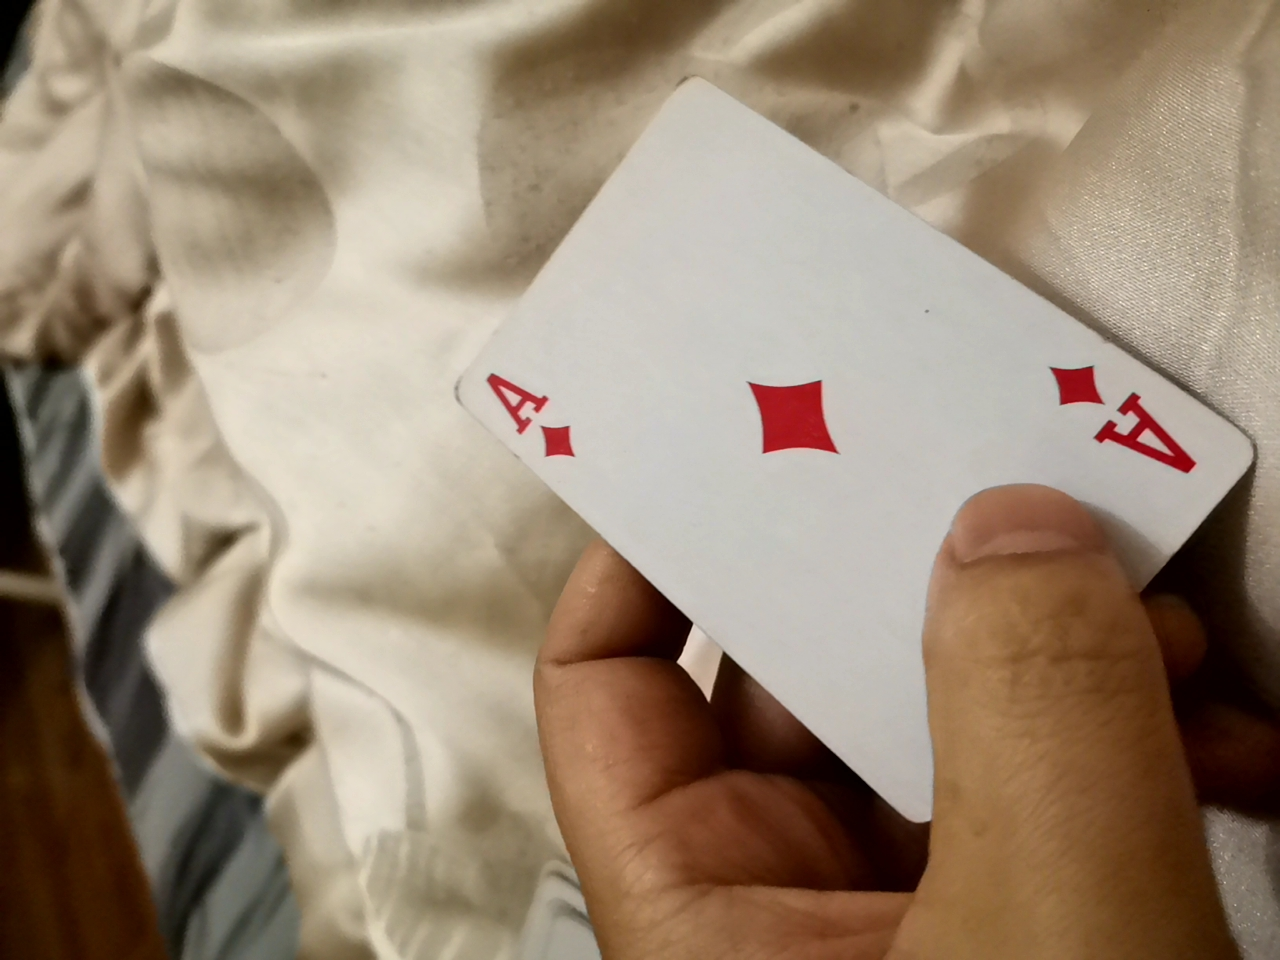fk a: (373, 83, 1221, 769)
